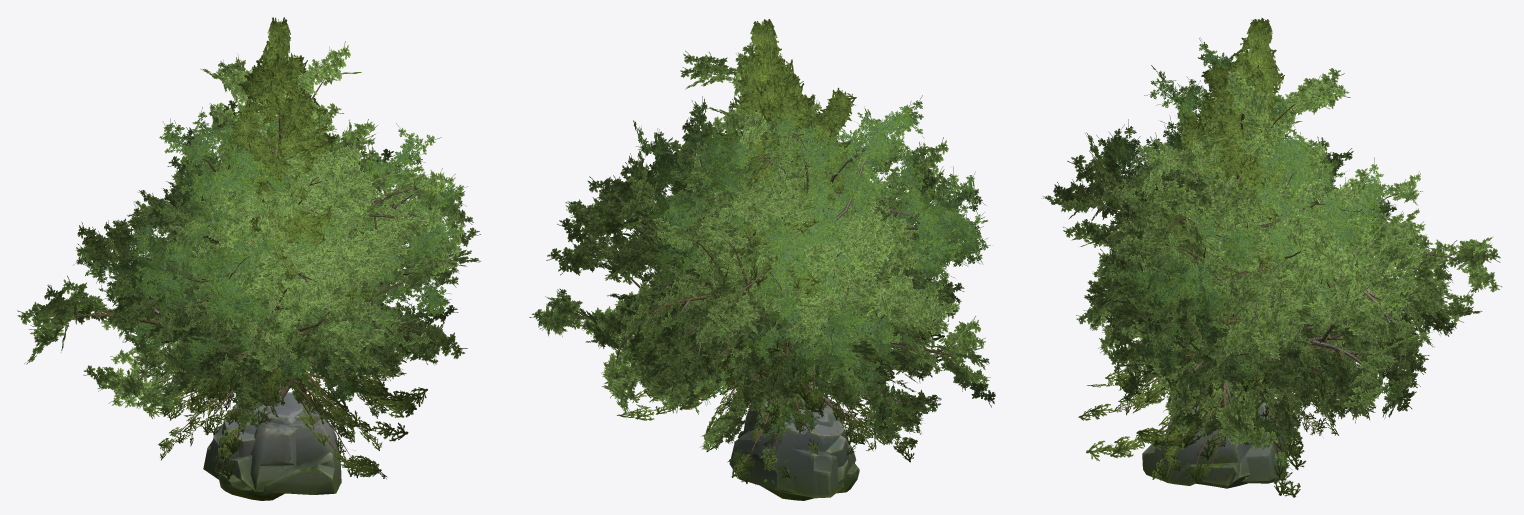
File: nature.glb
3 renders of one model, left to right at view 1: azimuth 30°, elevation 25°; view 2: azimuth 150°, elevation 25°; view 3: azimuth 270°, elevation 25°, orthographic. The views are drawn at different scales.
Parts seen in each view (by area): view 1: Oak_3_lod0, Oak_1_lod0, Pine_3_lod0, Ash_1_lod0, Ash_2_lod0, Oak_2_lod0, Pine_2_lod0, Rock_Medium_3_lod0, Rock_Medium_1_lod0, Pine_1_lod0, Rock_Medium_2_lod0; view 2: Oak_3_lod0, Ash_1_lod0, Oak_1_lod0, Ash_2_lod0, Oak_2_lod0, Pine_3_lod0, Pine_2_lod0, Rock_Medium_2_lod0, Pine_1_lod0, Rock_Medium_3_lod0, Rock_Medium_1_lod0; view 3: Oak_3_lod0, Ash_1_lod0, Oak_1_lod0, Pine_3_lod0, Ash_2_lod0, Oak_2_lod0, Rock_Medium_3_lod0, Pine_1_lod0, Pine_2_lod0, Rock_Medium_2_lod0.
Part boxes in pixels (bbox=[...]): Oak_3_lod0: bbox=[17, 41, 480, 418]; Oak_1_lod0: bbox=[100, 136, 426, 429]; Pine_3_lod0: bbox=[145, 17, 427, 479]; Ash_1_lod0: bbox=[124, 94, 467, 406]; Ash_2_lod0: bbox=[74, 107, 451, 412]; Oak_2_lod0: bbox=[122, 141, 414, 400]; Pine_2_lod0: bbox=[156, 114, 359, 478]; Rock_Medium_3_lod0: bbox=[219, 392, 341, 500]; Rock_Medium_1_lod0: bbox=[214, 405, 302, 491]; Pine_1_lod0: bbox=[147, 95, 400, 450]; Rock_Medium_2_lod0: bbox=[203, 403, 255, 479]; Oak_3_lod0: bbox=[529, 42, 995, 449]; Ash_1_lod0: bbox=[633, 95, 990, 440]; Oak_1_lod0: bbox=[621, 94, 960, 450]; Ash_2_lod0: bbox=[623, 103, 970, 418]; Oak_2_lod0: bbox=[645, 116, 929, 417]; Pine_3_lod0: bbox=[617, 19, 946, 436]; Pine_2_lod0: bbox=[664, 87, 917, 483]; Rock_Medium_2_lod0: bbox=[729, 421, 844, 498]; Pine_1_lod0: bbox=[697, 98, 915, 454]; Rock_Medium_3_lod0: bbox=[737, 382, 859, 493]; Rock_Medium_1_lod0: bbox=[745, 391, 856, 500]; Oak_3_lod0: bbox=[1067, 67, 1501, 450]; Ash_1_lod0: bbox=[1094, 65, 1408, 408]; Oak_1_lod0: bbox=[1041, 127, 1428, 443]; Pine_3_lod0: bbox=[1078, 18, 1354, 497]; Ash_2_lod0: bbox=[1102, 37, 1396, 450]; Oak_2_lod0: bbox=[1112, 122, 1401, 425]; Rock_Medium_3_lod0: bbox=[1142, 401, 1263, 485]; Pine_1_lod0: bbox=[1105, 92, 1357, 480]; Pine_2_lod0: bbox=[1113, 64, 1375, 480]; Rock_Medium_2_lod0: bbox=[1241, 394, 1286, 483].
Size of what is drawn, in the model's own units: 13.7 by 13.46 by 12.23.
Materials: 8 (8 with a texture image).
